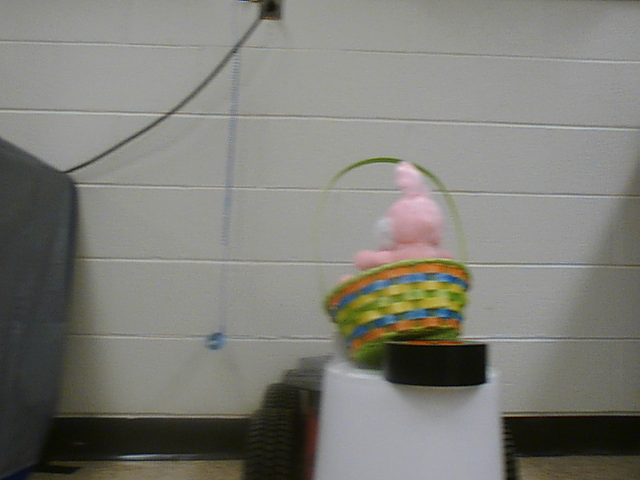bunny: (310, 149, 476, 363)
